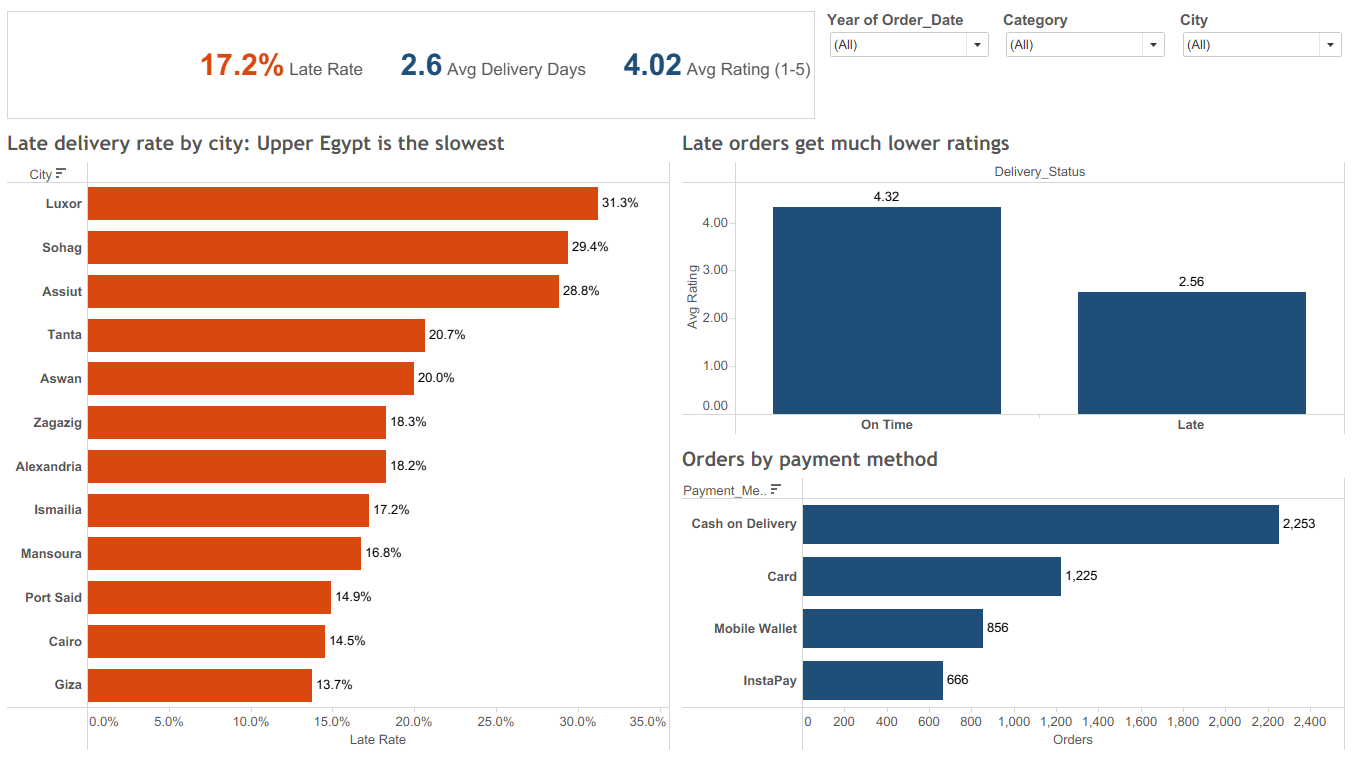

The dashboard page shown, as its layout file describes it:
{"tool":"tableau","page":{"name":"Delivery & Customers","canvas":[1366,768],"ordinal":0},"visuals":[{"type":"worksheet","title":"KPI - Delivery","mark":"Text","box":[8,8,819.6,120.3]},{"type":"filter","title":"Late Rate by City","param":"[textscan.store01].[yr:Order_Date:ok]","box":[827.6,8,176.8,120.3]},{"type":"filter","title":"Late Rate by City","param":"[textscan.store01].[none:Category:nk]","box":[1004.4,8,176.8,120.3]},{"type":"filter","title":"Late Rate by City","param":"[textscan.store01].[none:City:nk]","box":[1181.2,8,176.8,120.3]},{"type":"worksheet","title":"Late Rate by City","mark":"Bar","rows":["City"],"cols":["Calc_LateRate"],"box":[8,128.3,675,631.7]},{"type":"worksheet","title":"Rating by Delivery Status","mark":"Bar","rows":["Calc_AvgRating"],"cols":["Delivery_Status"],"box":[683,128.3,675,315.8]},{"type":"worksheet","title":"Orders by Payment Method","mark":"Bar","rows":["Payment_Method"],"cols":["Calc_Orders"],"box":[683,444.2,675,315.8]}]}

Visuals, with their boxes in screenshot pixels (x1, y1, x2, y2), scaled from the page's 1366x768 canvas onto the 1352x759 screenshot:
"KPI - Delivery" worksheet (Text marks): [x1=8, y1=8, x2=819, y2=127]
"Late Rate by City" filter: [x1=819, y1=8, x2=994, y2=127]
"Late Rate by City" filter: [x1=994, y1=8, x2=1169, y2=127]
"Late Rate by City" filter: [x1=1169, y1=8, x2=1344, y2=127]
"Late Rate by City" worksheet (Bar marks): [x1=8, y1=127, x2=676, y2=751]
"Rating by Delivery Status" worksheet (Bar marks): [x1=676, y1=127, x2=1344, y2=439]
"Orders by Payment Method" worksheet (Bar marks): [x1=676, y1=439, x2=1344, y2=751]
